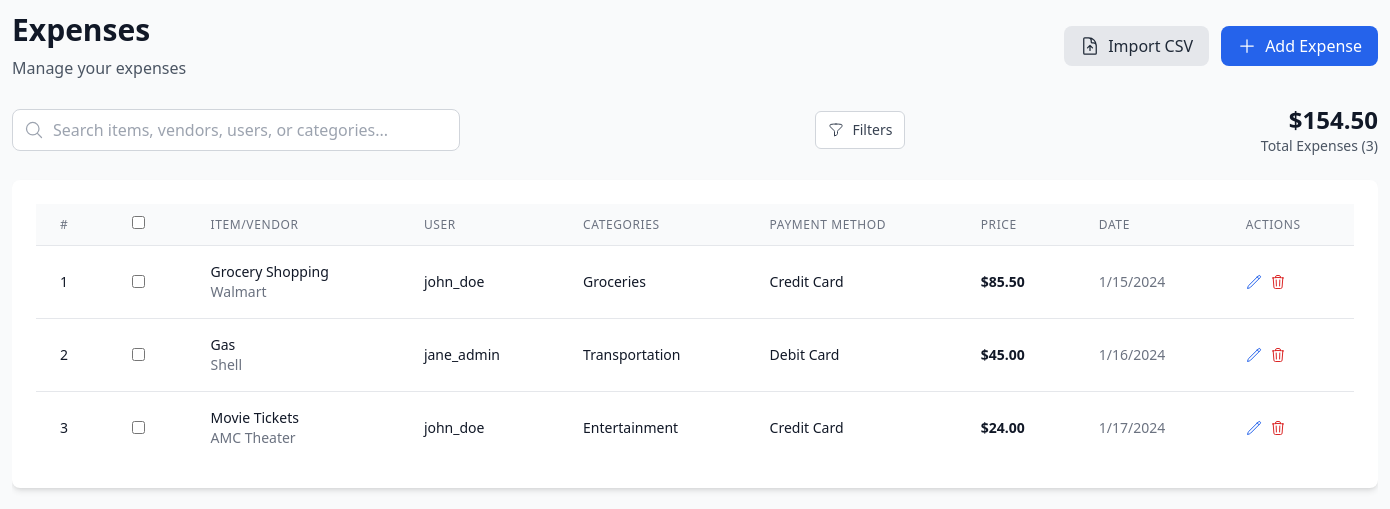
Expenses › Search Functionality › filters expenses by item name
Type "Grocery" into the field with placeholder "Search items, vendors, users, or categories..." at {"x": 236, "y": 130}, box x1=12 y1=109 x2=460 y2=151
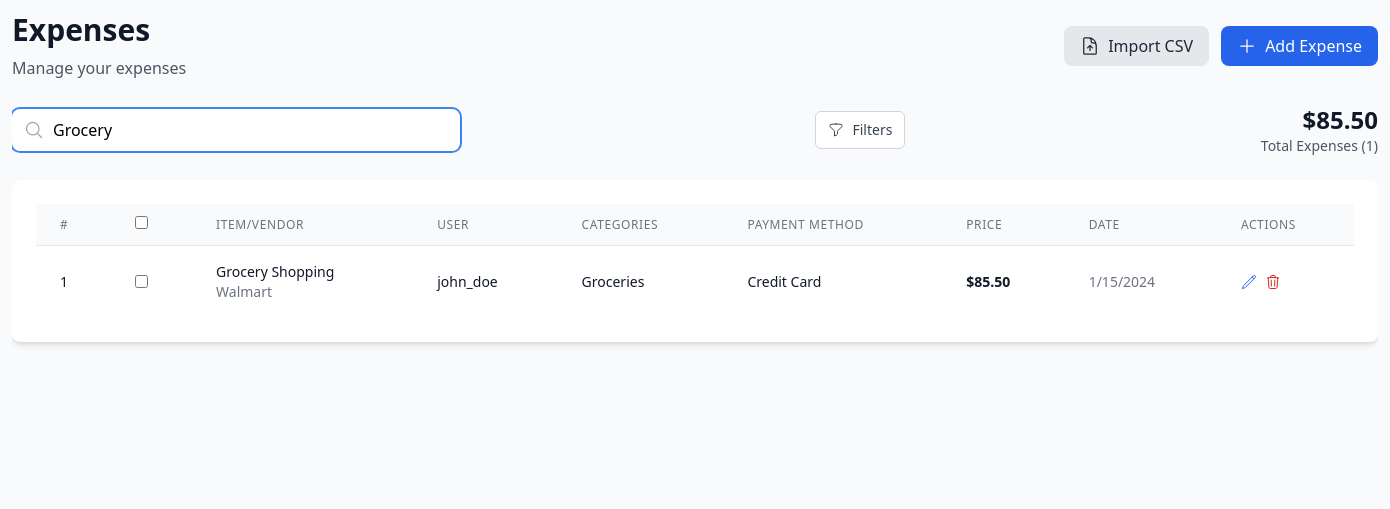
Check: the text "Grocery Shopping" is shown, box x1=216 y1=262 x2=334 y2=281
Check: the text "Gas" is gone
Check: the text "Movie Tickets" is gone
